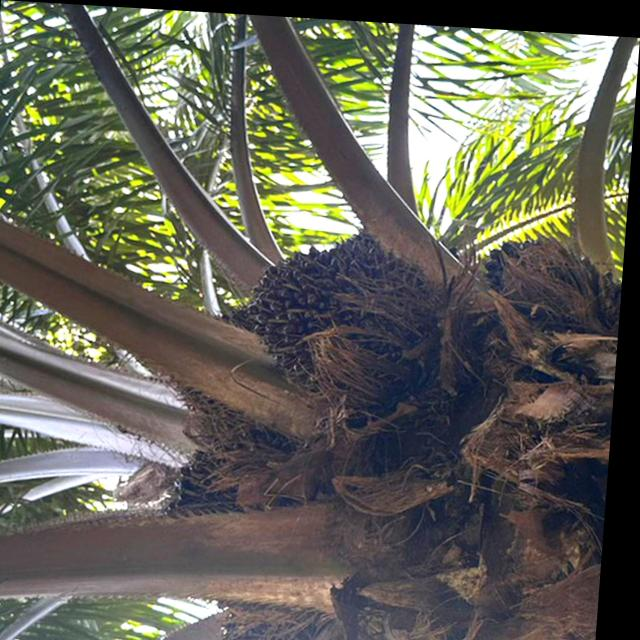almost: (233, 211, 453, 409)
